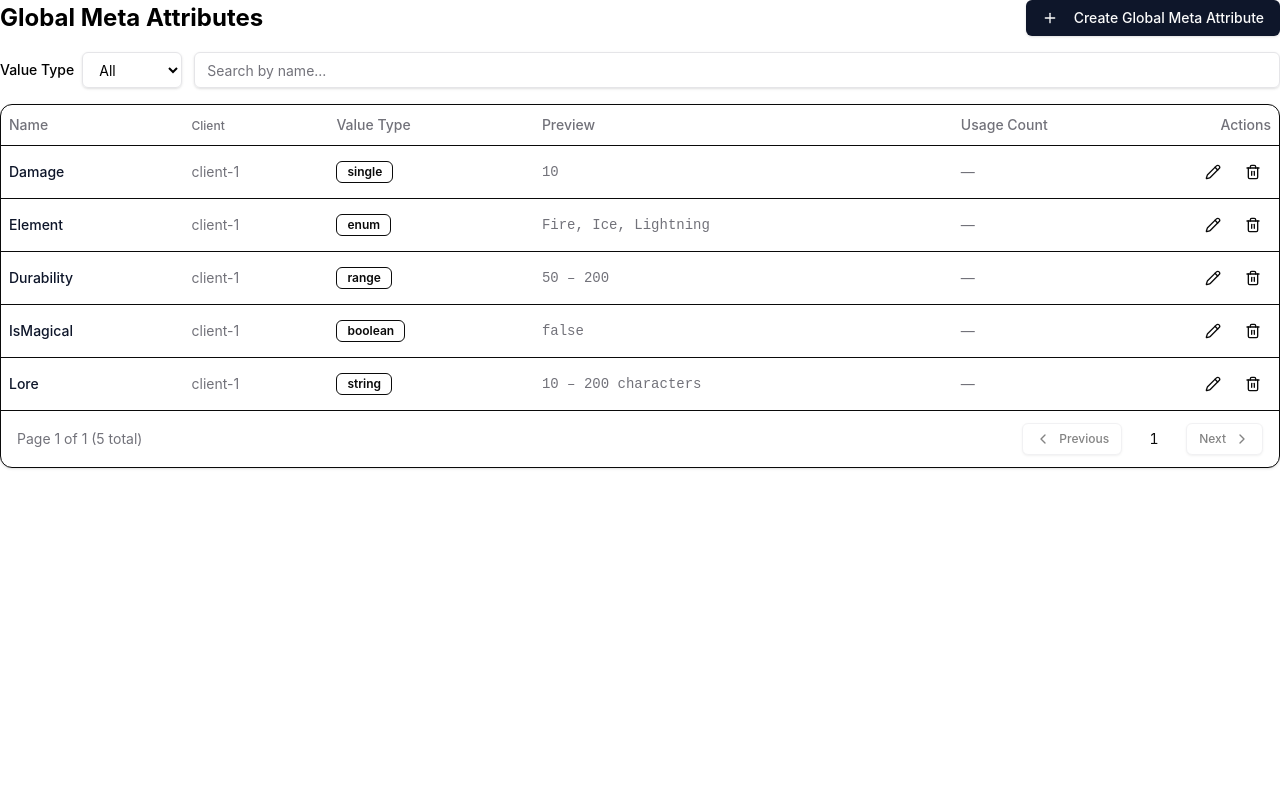
Test: GlobalMetaAttributes list page › opens edit dialog when a desktop edit button is clicked
Click the button named "Edit Damage" at x=1213, y=172, box [1195,154,1231,190]
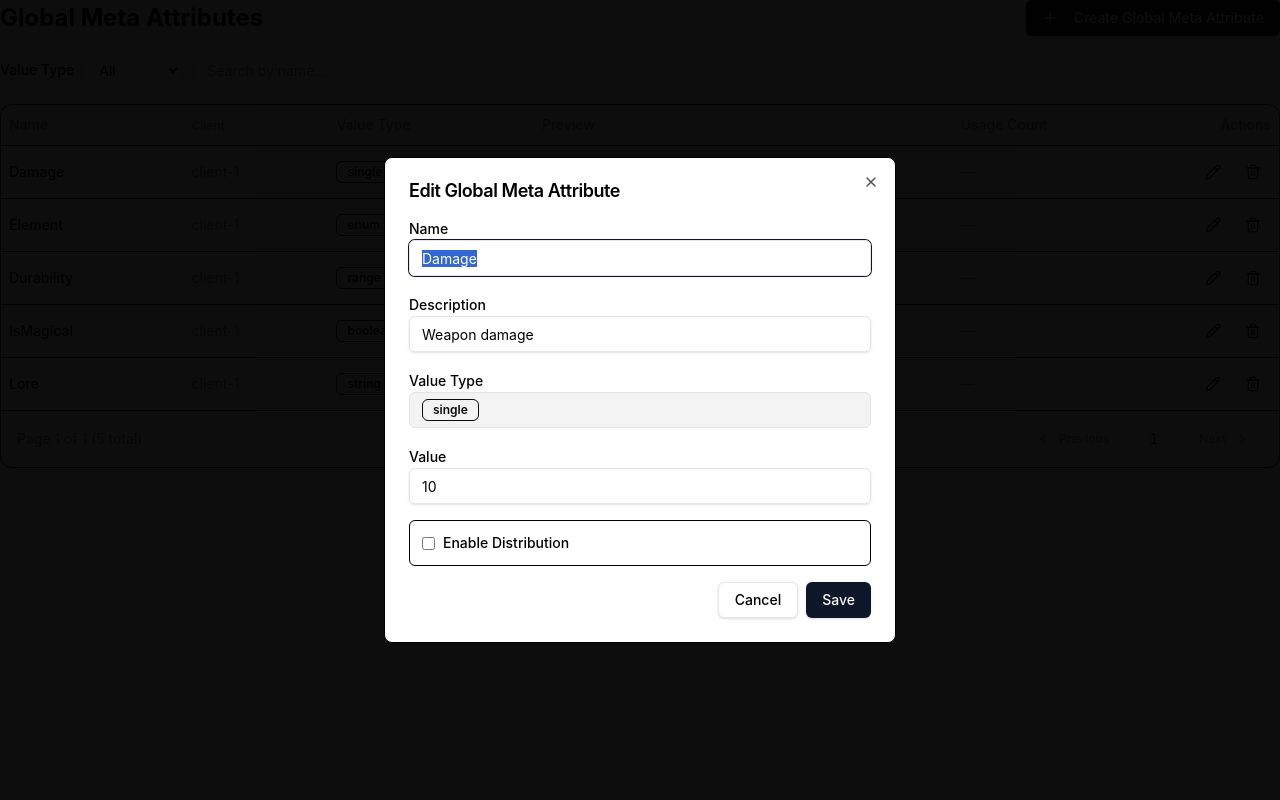
Now the dialog is shown, box [384,157,896,643]
Now the heading "Edit Global Meta Attribute" is shown, box [409,180,620,201]
